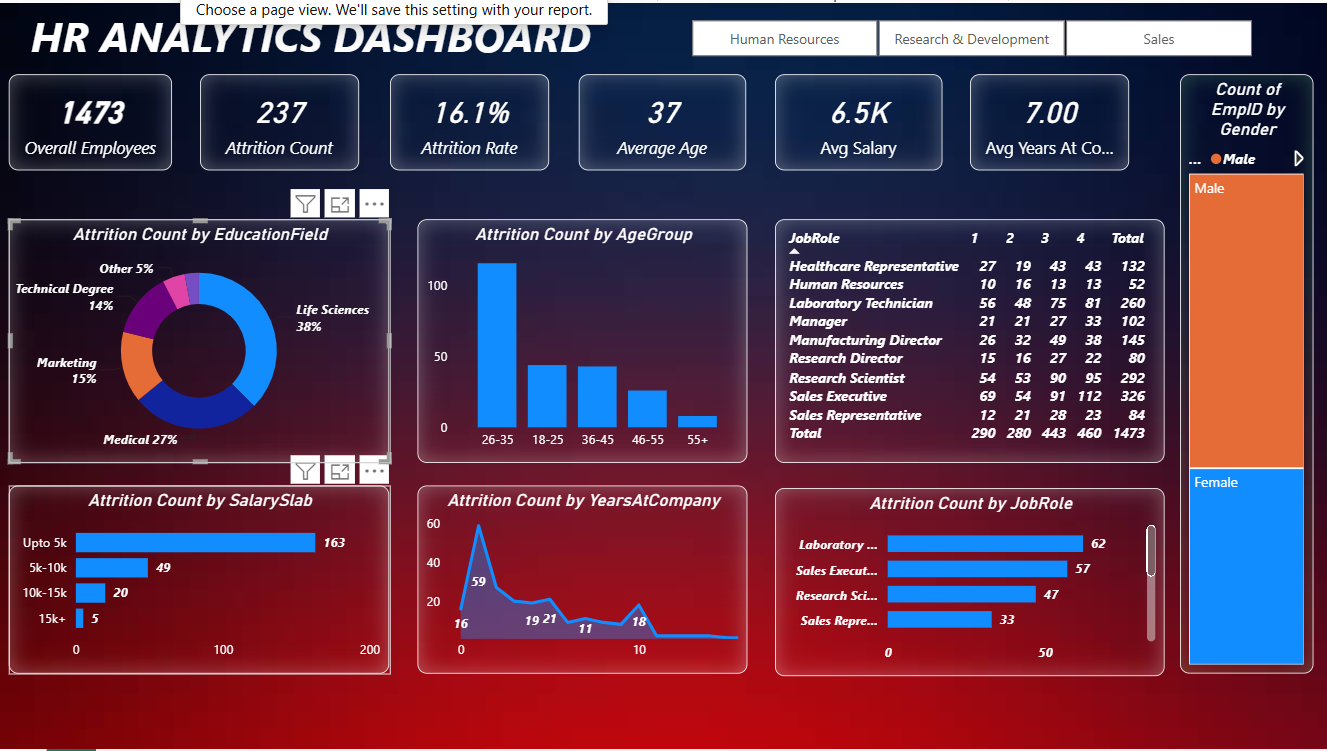

What the dashboard file says about the page in this screenshot:
{"tool":"powerbi","page":{"name":"Page 1","canvas":[1280,720],"ordinal":0},"visuals":[{"type":"shape","box":[0,0,575,58.8],"z":0},{"type":"card","fields":{"Values":["HR_Analytics.Overall Employees"]},"box":[8.8,68.8,157.5,92.5],"z":1000},{"type":"card","fields":{"Values":["HR_Analytics.Attrition Count"]},"box":[193,68.8,153.2,92.9],"z":2000},{"type":"card","fields":{"Values":["HR_Analytics.Attrition Rate"]},"box":[376.2,68.8,153.8,92.5],"z":3000},{"type":"card","fields":{"Values":["HR_Analytics.Average Age"]},"box":[558.8,68.8,161.2,92.5],"z":4000},{"type":"card","fields":{"Values":["HR_Analytics.Avg Salary"]},"box":[747.5,68.8,161.2,92.5],"z":5000},{"type":"card","fields":{"Values":["HR_Analytics.Avg Years At Company"]},"box":[936.2,68.8,153.8,92.5],"z":6000},{"type":"donutChart","fields":{"Y":["HR_Analytics.Attrition Count"],"Category":["HR_Analytics.EducationField"]},"box":[8.8,208.8,367.5,235],"z":7000},{"type":"clusteredColumnChart","fields":{"Y":["HR_Analytics.Attrition Count"],"Category":["HR_Analytics.AgeGroup"]},"box":[402.5,208.8,318.8,235],"z":8000},{"type":"barChart","fields":{"Category":["HR_Analytics.SalarySlab"],"Y":["HR_Analytics.Attrition Count"]},"box":[8.8,466.2,367.5,181.2],"z":9000},{"type":"barChart","fields":{"Category":["HR_Analytics.JobRole"],"Y":["HR_Analytics.Attrition Count"]},"box":[747.5,467.5,376.2,181.2],"z":10000},{"type":"pivotTable","fields":{"Rows":["HR_Analytics.JobRole"],"Columns":["HR_Analytics.JobSatisfaction"],"Values":["HR_Analytics.Overall Employees"]},"box":[747.5,208.8,376.2,235],"z":11000},{"type":"stackedAreaChart","fields":{"Category":["HR_Analytics.YearsAtCompany"],"Y":["HR_Analytics.Attrition Count"]},"box":[402.5,466.2,318.8,181.2],"z":12000},{"type":"treemap","fields":{"Group":["HR_Analytics.Gender"],"Values":["CountNonNull(HR_Analytics.EmpID)"]},"box":[1138.8,68.8,128.8,578.8],"z":13000},{"type":"slicer","fields":{"Values":["HR_Analytics.Department"]},"box":[641.2,10,590,48.8],"z":14000}]}

Visuals, with their boxes in screenshot pixels (x1, y1, x2, y2):
shape: bbox=(7, 7, 595, 67)
card - HR_Analytics.Overall Employees: bbox=(16, 77, 177, 172)
card - HR_Analytics.Attrition Count: bbox=(204, 77, 361, 172)
card - HR_Analytics.Attrition Rate: bbox=(392, 77, 549, 172)
card - HR_Analytics.Average Age: bbox=(578, 77, 743, 172)
card - HR_Analytics.Avg Salary: bbox=(771, 77, 936, 172)
card - HR_Analytics.Avg Years At Company: bbox=(964, 77, 1121, 172)
donutChart - HR_Analytics.Attrition Count x HR_Analytics.EducationField: bbox=(16, 220, 392, 461)
clusteredColumnChart - HR_Analytics.Attrition Count x HR_Analytics.AgeGroup: bbox=(418, 220, 744, 461)
barChart - HR_Analytics.SalarySlab x HR_Analytics.Attrition Count: bbox=(16, 484, 392, 669)
barChart - HR_Analytics.JobRole x HR_Analytics.Attrition Count: bbox=(771, 485, 1156, 670)
pivotTable - HR_Analytics.JobRole x HR_Analytics.JobSatisfaction: bbox=(771, 220, 1156, 461)
stackedAreaChart - HR_Analytics.YearsAtCompany x HR_Analytics.Attrition Count: bbox=(418, 484, 744, 669)
treemap - HR_Analytics.Gender x CountNonNull(HR_Analytics.EmpID): bbox=(1171, 77, 1303, 669)
slicer - HR_Analytics.Department: bbox=(662, 17, 1266, 67)
